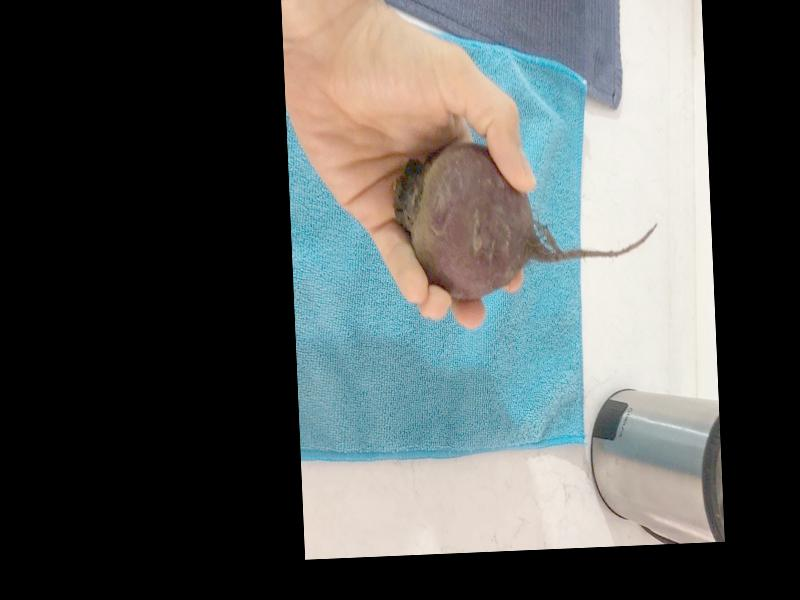Beet: (390, 134, 659, 303)
